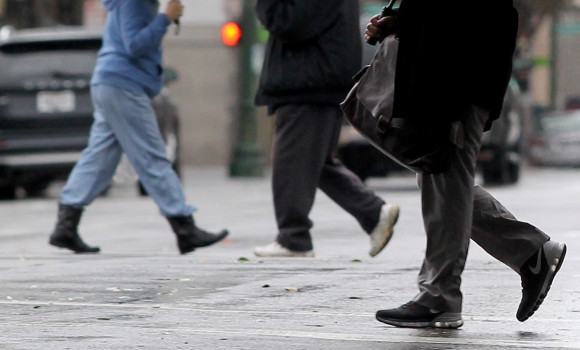pedestrian: (353, 1, 569, 335), (44, 1, 237, 258), (230, 1, 407, 264)
